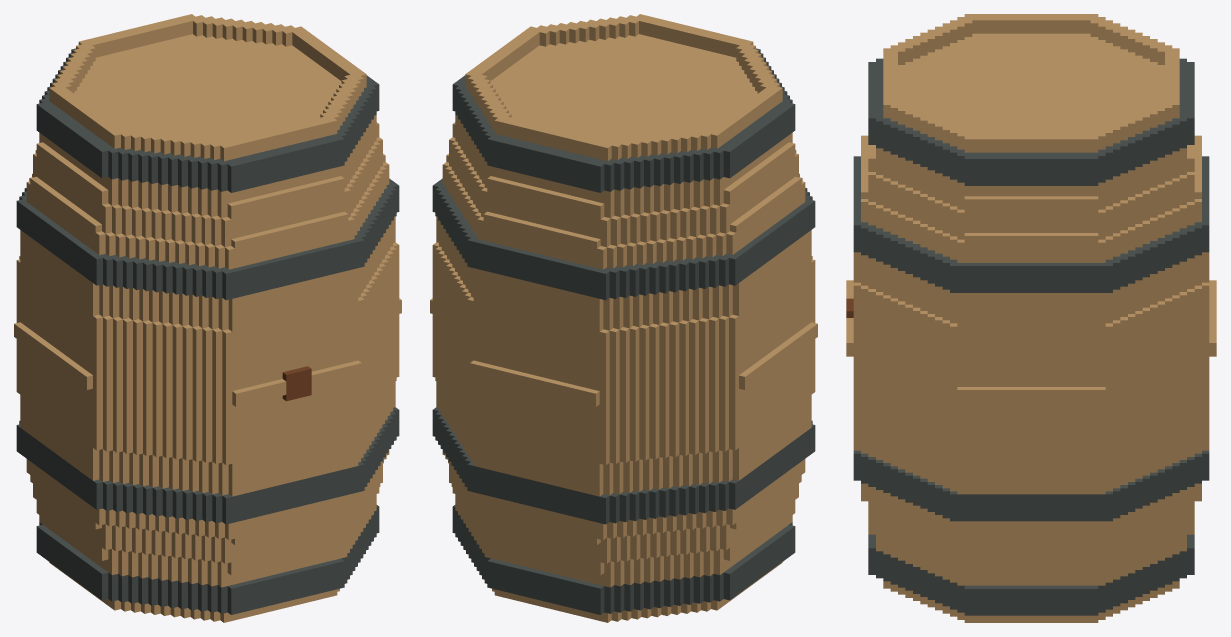
File: wooden_barrel.glb
3 renders of one model, left to right at view 1: azimuth 30°, elevation 25°; view 2: azimuth 150°, elevation 25°; view 3: azimuth 270°, elevation 25°, orthographic.
Visible parts, largest first — view 1: wooden_barrel:compound; view 2: wooden_barrel:compound; view 3: wooden_barrel:compound.
Boxes of the visible parts, box(x1,y1,x2,y2) form: wooden_barrel:compound: box(14, 14, 401, 622); wooden_barrel:compound: box(430, 14, 817, 622); wooden_barrel:compound: box(846, 14, 1216, 622).
Bounding box in the file's own units: 0.5 × 0.72 × 0.5.
